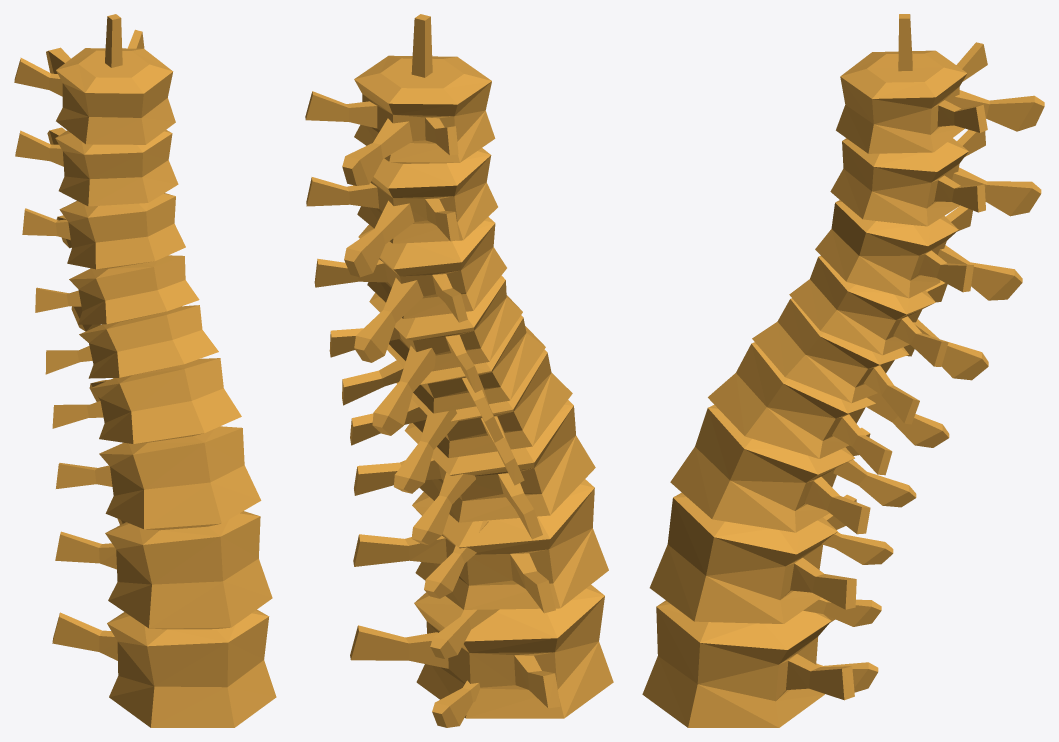
Rendered from candle-spine-unlit.fbx.
3 views of the same model, side by side, from view 1: azimuth 30°, elevation 25°; view 2: azimuth 150°, elevation 25°; view 3: azimuth 270°, elevation 25° (orthographic). The views are drawn at different scales.
Visible parts, largest first — view 1: candle-spine-unlit; view 2: candle-spine-unlit; view 3: candle-spine-unlit.
Part boxes in pixels (x1,y1,x2,y2): candle-spine-unlit: [14, 14, 276, 727]; candle-spine-unlit: [305, 14, 613, 727]; candle-spine-unlit: [642, 14, 1044, 727].
Bounding box in the file's own units: 0.1535 × 0.5105 × 0.2744.
